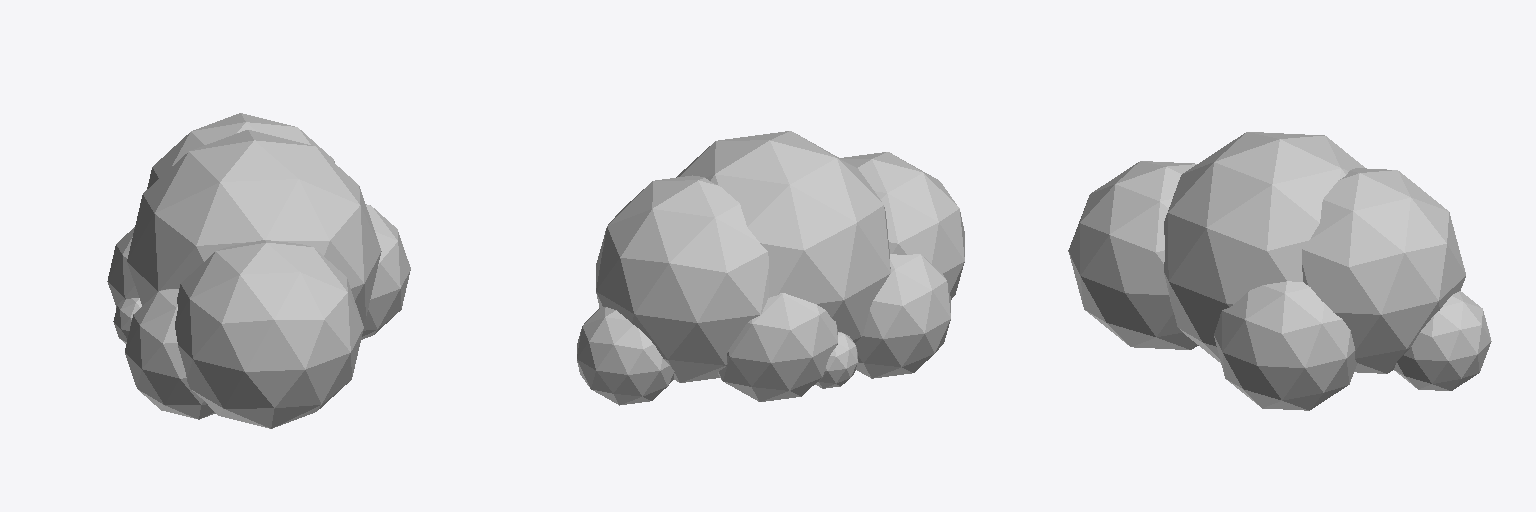
Rendered from Stone5.obj.
The picture shows the model from 3 angles: view 1: azimuth 30°, elevation 25°; view 2: azimuth 150°, elevation 25°; view 3: azimuth 270°, elevation 25°; orthographic projection.
Parts seen in each view (by area): view 1: Icosphere_003, Icosphere_010, Icosphere_002, Icosphere_006, Icosphere_007, Icosphere_005, Icosphere_009; view 2: Icosphere_007, Icosphere_010, Icosphere_005, Icosphere_002, Icosphere_003, Icosphere_004, Icosphere_009; view 3: Icosphere_010, Icosphere_007, Icosphere_003, Icosphere_006, Icosphere_004.
Boxes of the visible parts, x1,y1,x2,y2 form: Icosphere_003: [175, 240, 363, 428]; Icosphere_010: [127, 130, 381, 321]; Icosphere_002: [125, 289, 215, 419]; Icosphere_006: [361, 204, 410, 339]; Icosphere_007: [147, 113, 334, 188]; Icosphere_005: [107, 227, 138, 307]; Icosphere_009: [113, 298, 141, 343]; Icosphere_007: [596, 175, 768, 382]; Icosphere_010: [676, 131, 890, 342]; Icosphere_005: [718, 293, 837, 401]; Icosphere_002: [855, 254, 950, 378]; Icosphere_003: [840, 152, 964, 299]; Icosphere_004: [577, 306, 674, 405]; Icosphere_009: [815, 332, 857, 388]; Icosphere_010: [1164, 132, 1364, 362]; Icosphere_007: [1302, 168, 1465, 373]; Icosphere_003: [1068, 161, 1198, 349]; Icosphere_006: [1214, 281, 1357, 410]; Icosphere_004: [1394, 291, 1491, 390].
Size of the model in its own units: 4099 by 3060 by 5059.